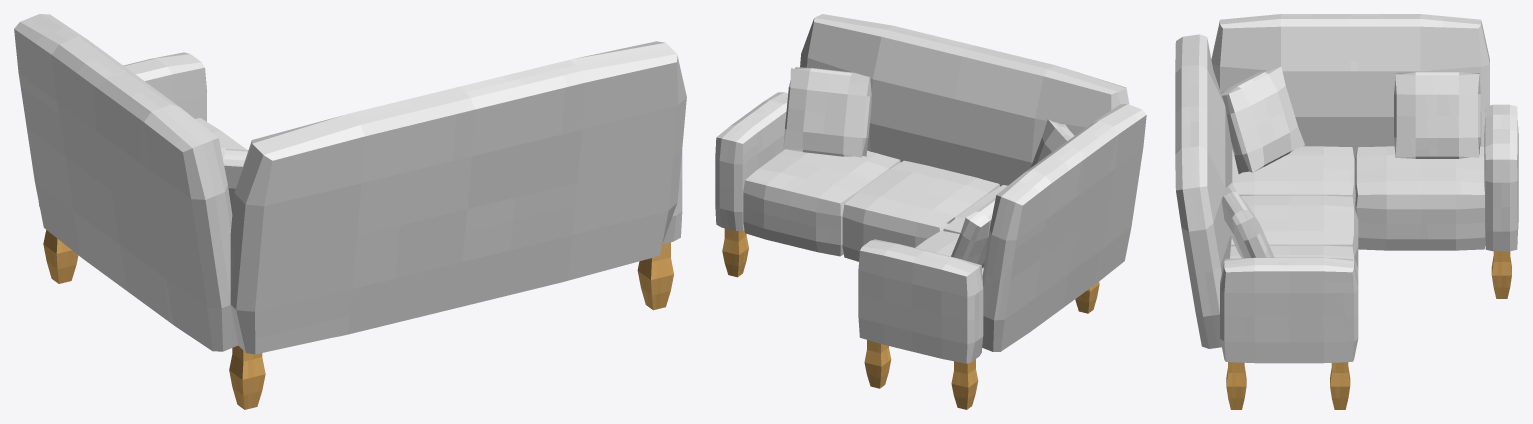
Rendered from simple_corner_1_sofa.obj.
3 renders of one model, left to right at view 1: azimuth 30°, elevation 25°; view 2: azimuth 150°, elevation 25°; view 3: azimuth 270°, elevation 25°, orthographic. The views are drawn at different scales.
Parts seen in each view (by area): view 1: Cube.010; view 2: Cube.010; view 3: Cube.010.
Boxes of the visible parts, x1=… form: Cube.010: x1=14, y1=14, x2=686, y2=409; Cube.010: x1=715, y1=14, x2=1146, y2=409; Cube.010: x1=1175, y1=14, x2=1518, y2=409.
Size of the model in its own units: 5.31 by 2.95 by 4.16.
